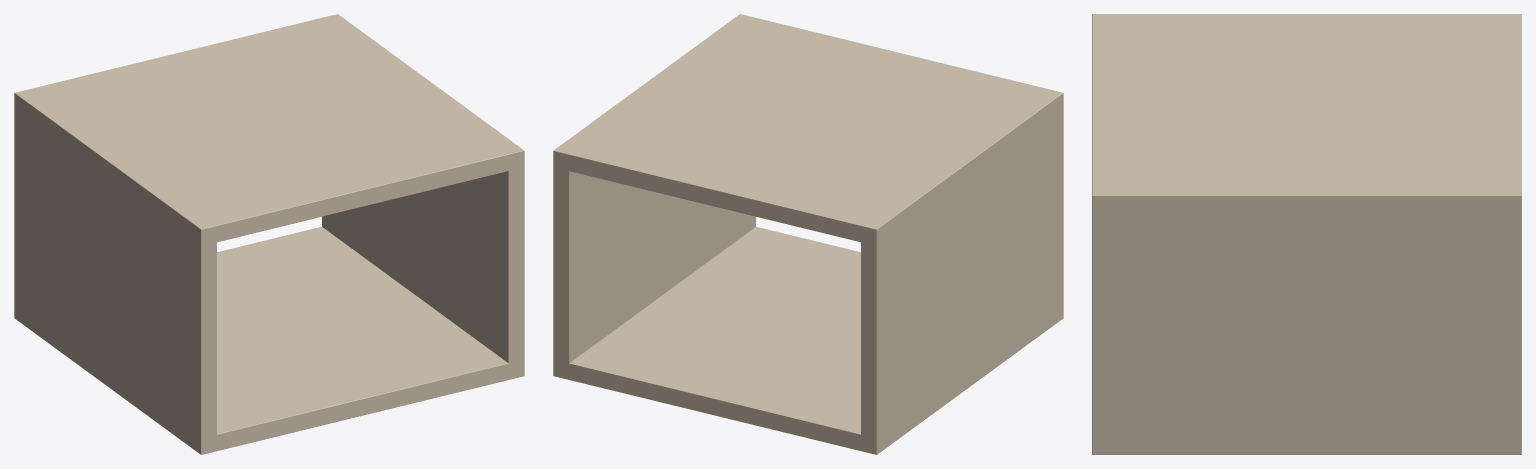
The model's file is MOD-1X07-A-O-AR.glb.
3 views of the same model, side by side, from view 1: azimuth 30°, elevation 25°; view 2: azimuth 150°, elevation 25°; view 3: azimuth 270°, elevation 25° (orthographic). The views are drawn at different scales.
Bounding box in the file's own units: 360 × 240 × 360.
